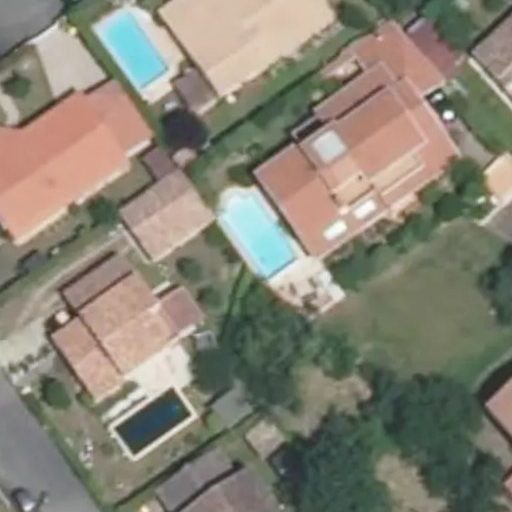pool: (218, 219, 293, 266)
